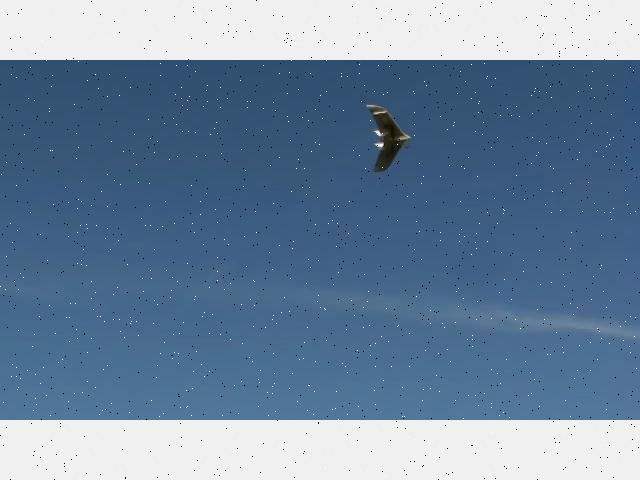Anti-Drone: (366, 104, 410, 172)
